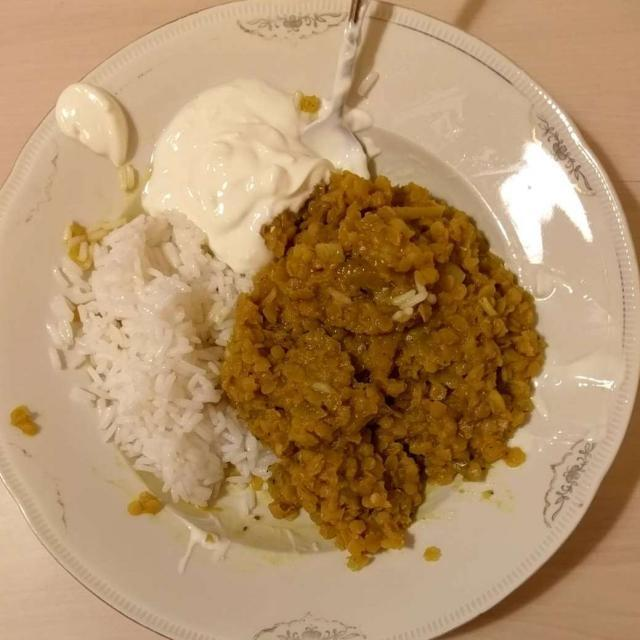lentils: (225, 175, 536, 559)
rice: (47, 219, 260, 542)
yogurt: (63, 72, 370, 285)
